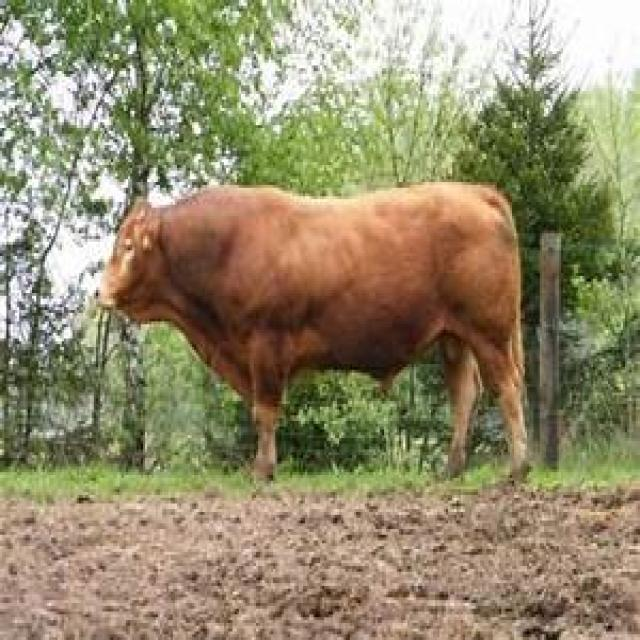cow: (92, 182, 531, 484)
